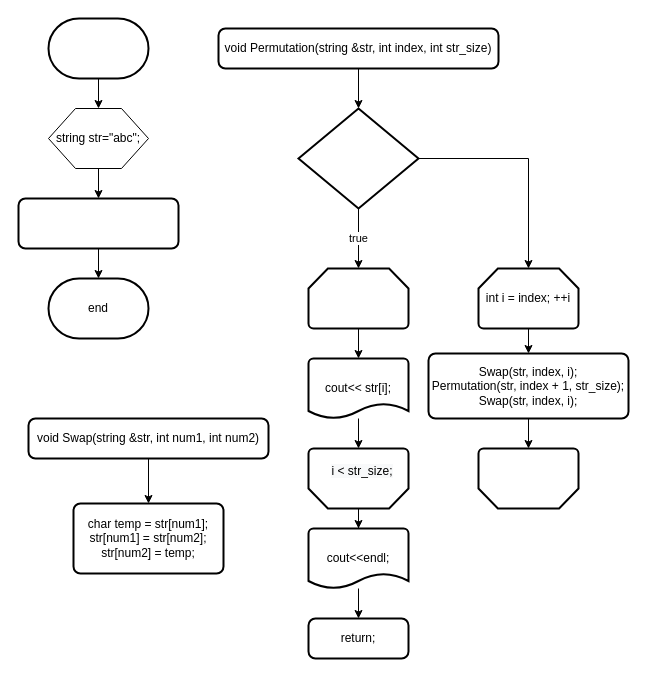
Some shapes in this 646 by 676 pixel diagram are drawn without their labels. Here are the shapes that lost their labels. From the top down, the centre of each, then its label:
(x=98, y=48): start
(x=358, y=158): str_size - 1 == index
(x=98, y=223): Permutation(str, 0, str.size());
(x=358, y=298): int i = 0; ++i
(x=528, y=478): i < str_size
